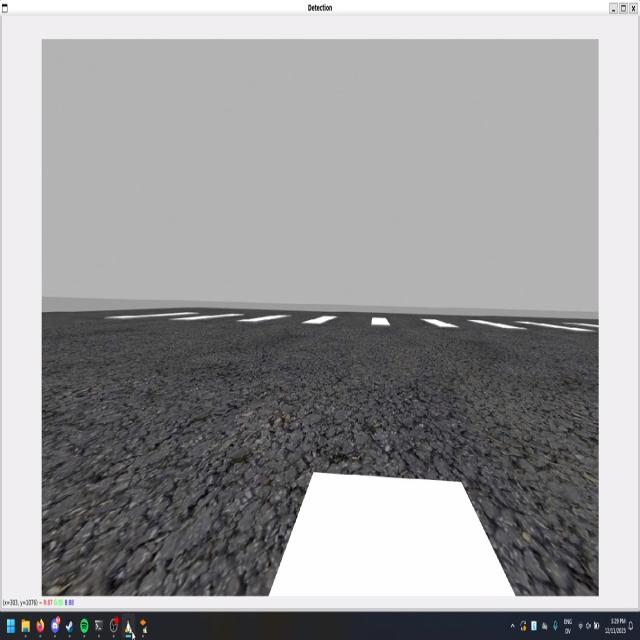crosswalk: (43, 443, 598, 595), (105, 312, 597, 331)
